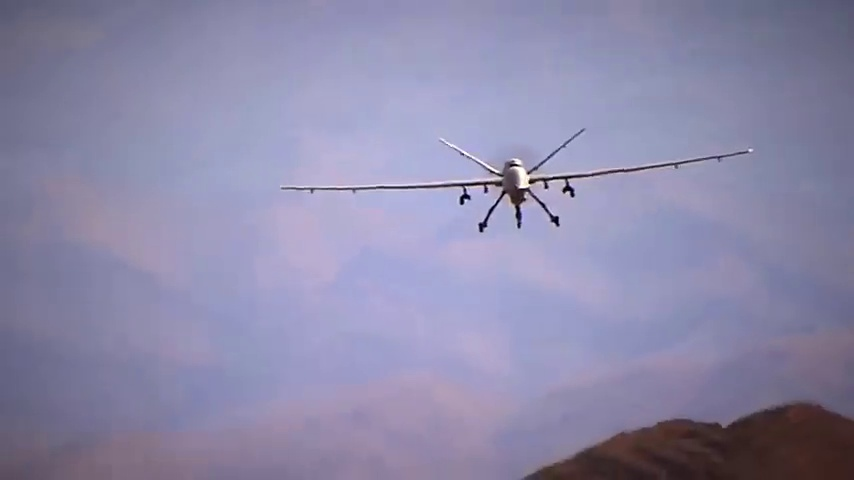military drone: (280, 128, 753, 233)
